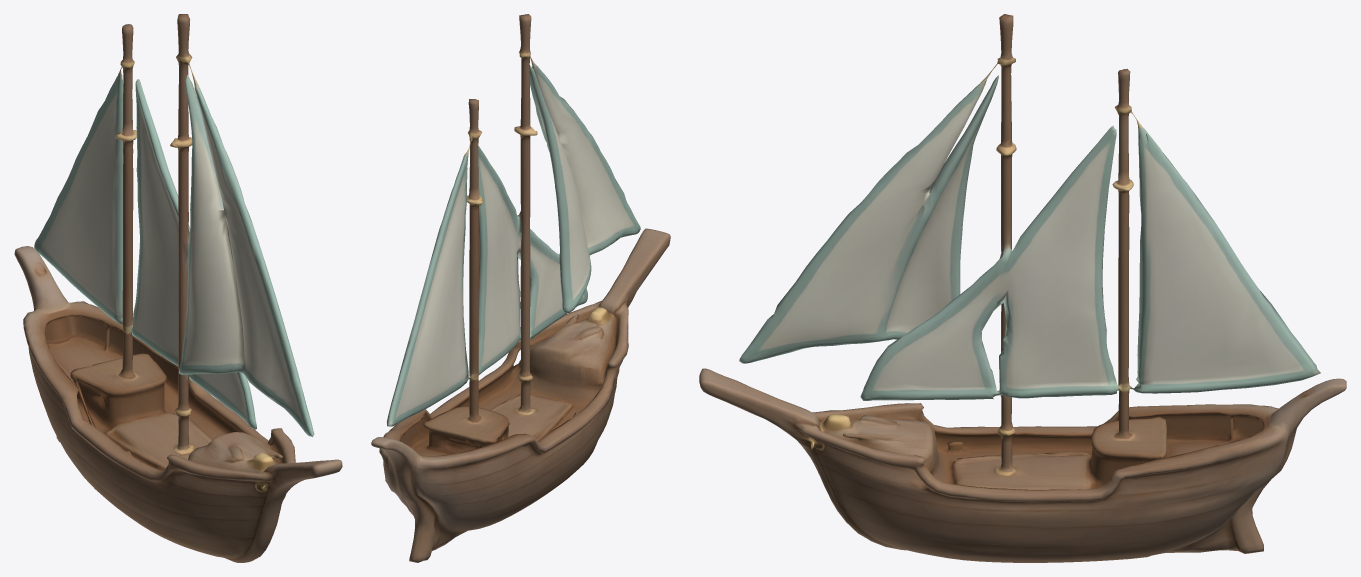
File: skyship.glb
3 renders of one model, left to right at view 1: azimuth 30°, elevation 25°; view 2: azimuth 150°, elevation 25°; view 3: azimuth 270°, elevation 25°, orthographic. The views are drawn at different scales.
Parts seen in each view (by area): view 1: model; view 2: model; view 3: model.
Part boxes in pixels (bbox=[...]): model: bbox=[14, 14, 342, 562]; model: bbox=[371, 14, 670, 562]; model: bbox=[699, 14, 1346, 562].
Bounding box in the file's own units: 0.4878 × 1.73 × 1.9.
Materials: 1 (1 with a texture image).
